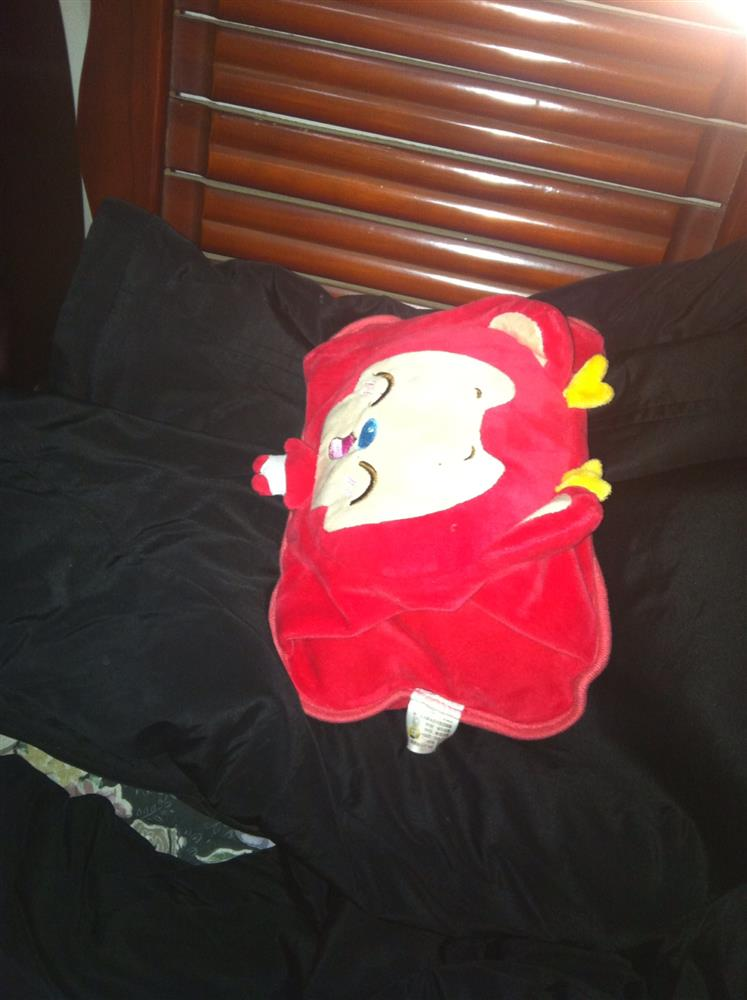Ali: (259, 320, 635, 557)
